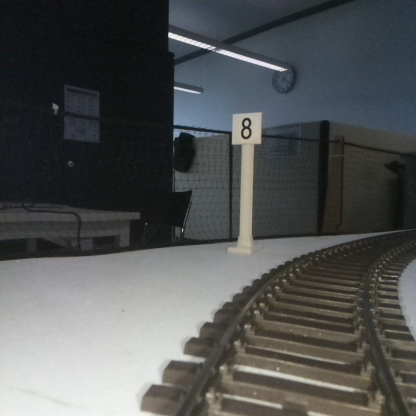white-info-8: (232, 112, 261, 251)
